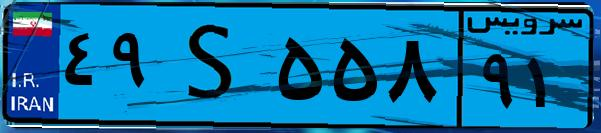1: (525, 38, 570, 115)
4: (57, 26, 110, 100)
5: (270, 28, 330, 110), (330, 28, 385, 110)
8: (385, 28, 445, 110)
9: (475, 38, 525, 113), (110, 28, 158, 98)
S: (158, 12, 270, 120)
